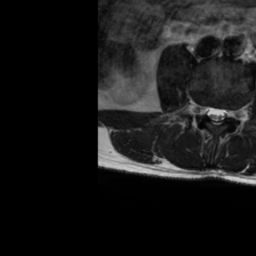CCS_normal: (213, 98, 220, 131)
LFS_normal: (227, 101, 235, 124)
LLS_normal: (220, 100, 227, 127)
RFS_normal: (198, 98, 206, 123)
RLS_normal: (206, 99, 213, 124)
